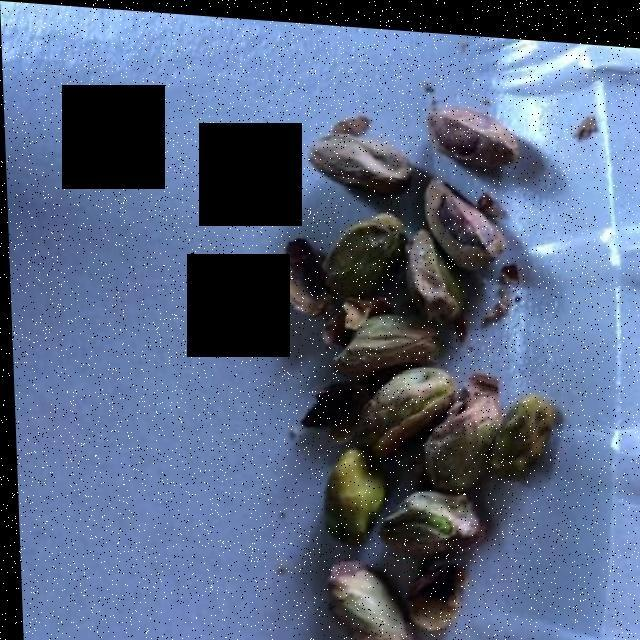pistachio: (276, 97, 549, 620)
